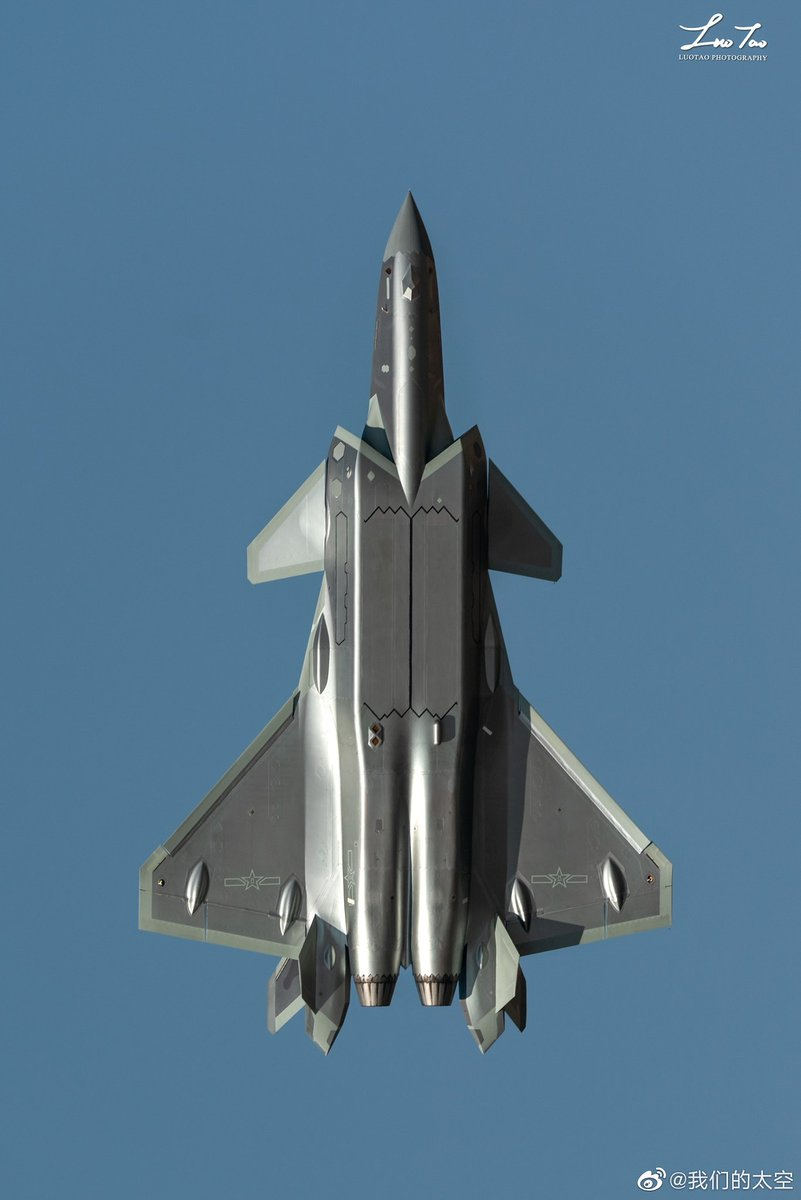J20: (137, 188, 672, 1058)
